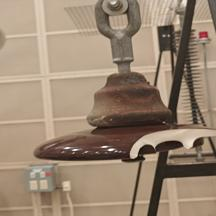insulator: (31, 72, 216, 178)
